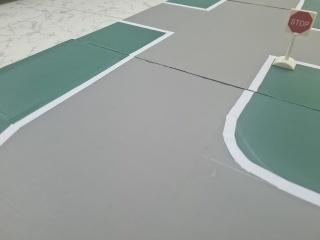stop: (288, 5, 316, 40)
